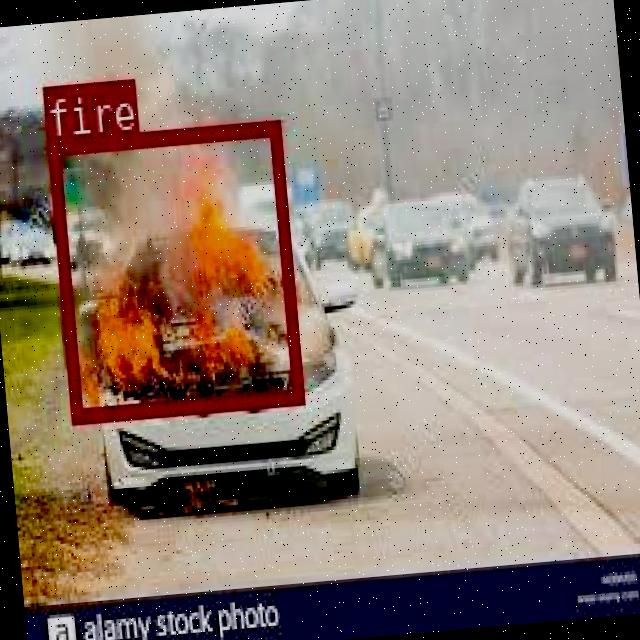fire: (45, 118, 302, 420)
